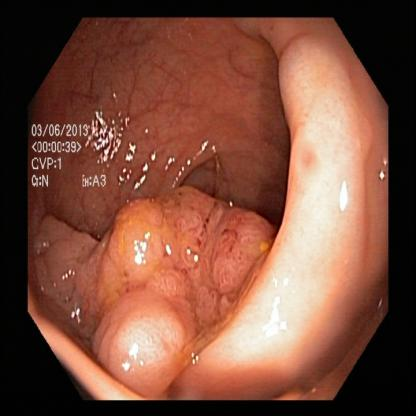Labels: (27, 116, 118, 196)
Polyps: (180, 191, 258, 288), (86, 304, 181, 382), (107, 207, 183, 300)
